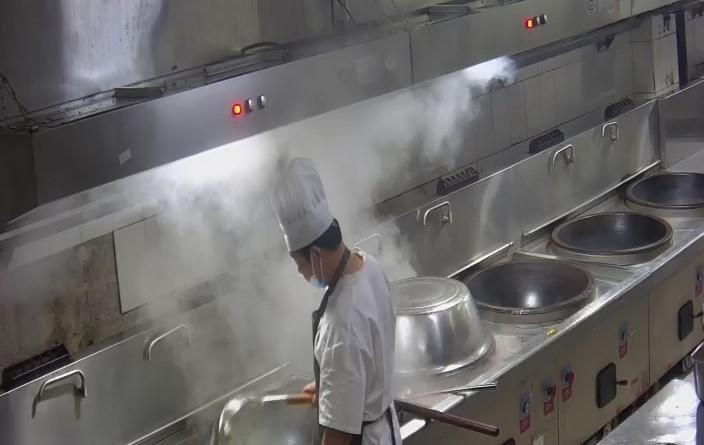mask: (282, 253, 322, 294)
